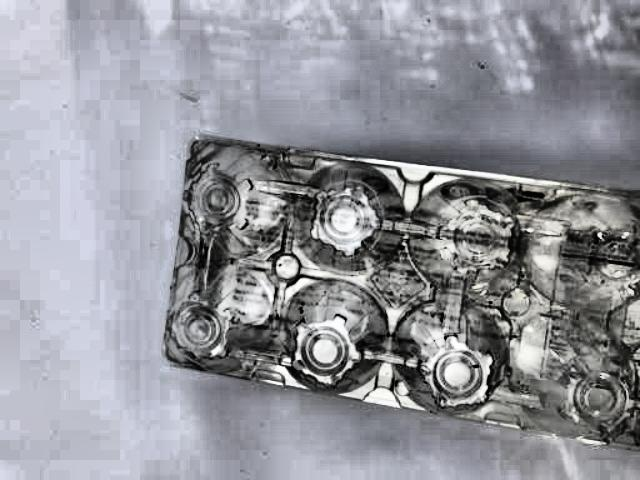Plastic: (154, 125, 640, 458)
